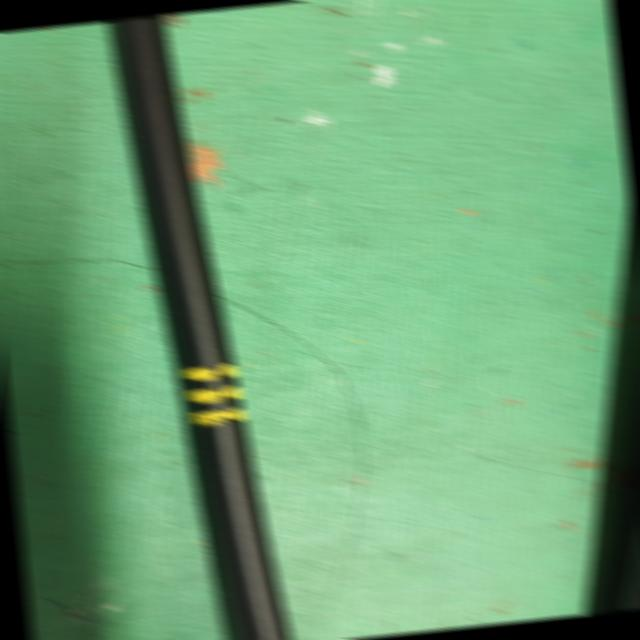yellow: (176, 363, 249, 428)
